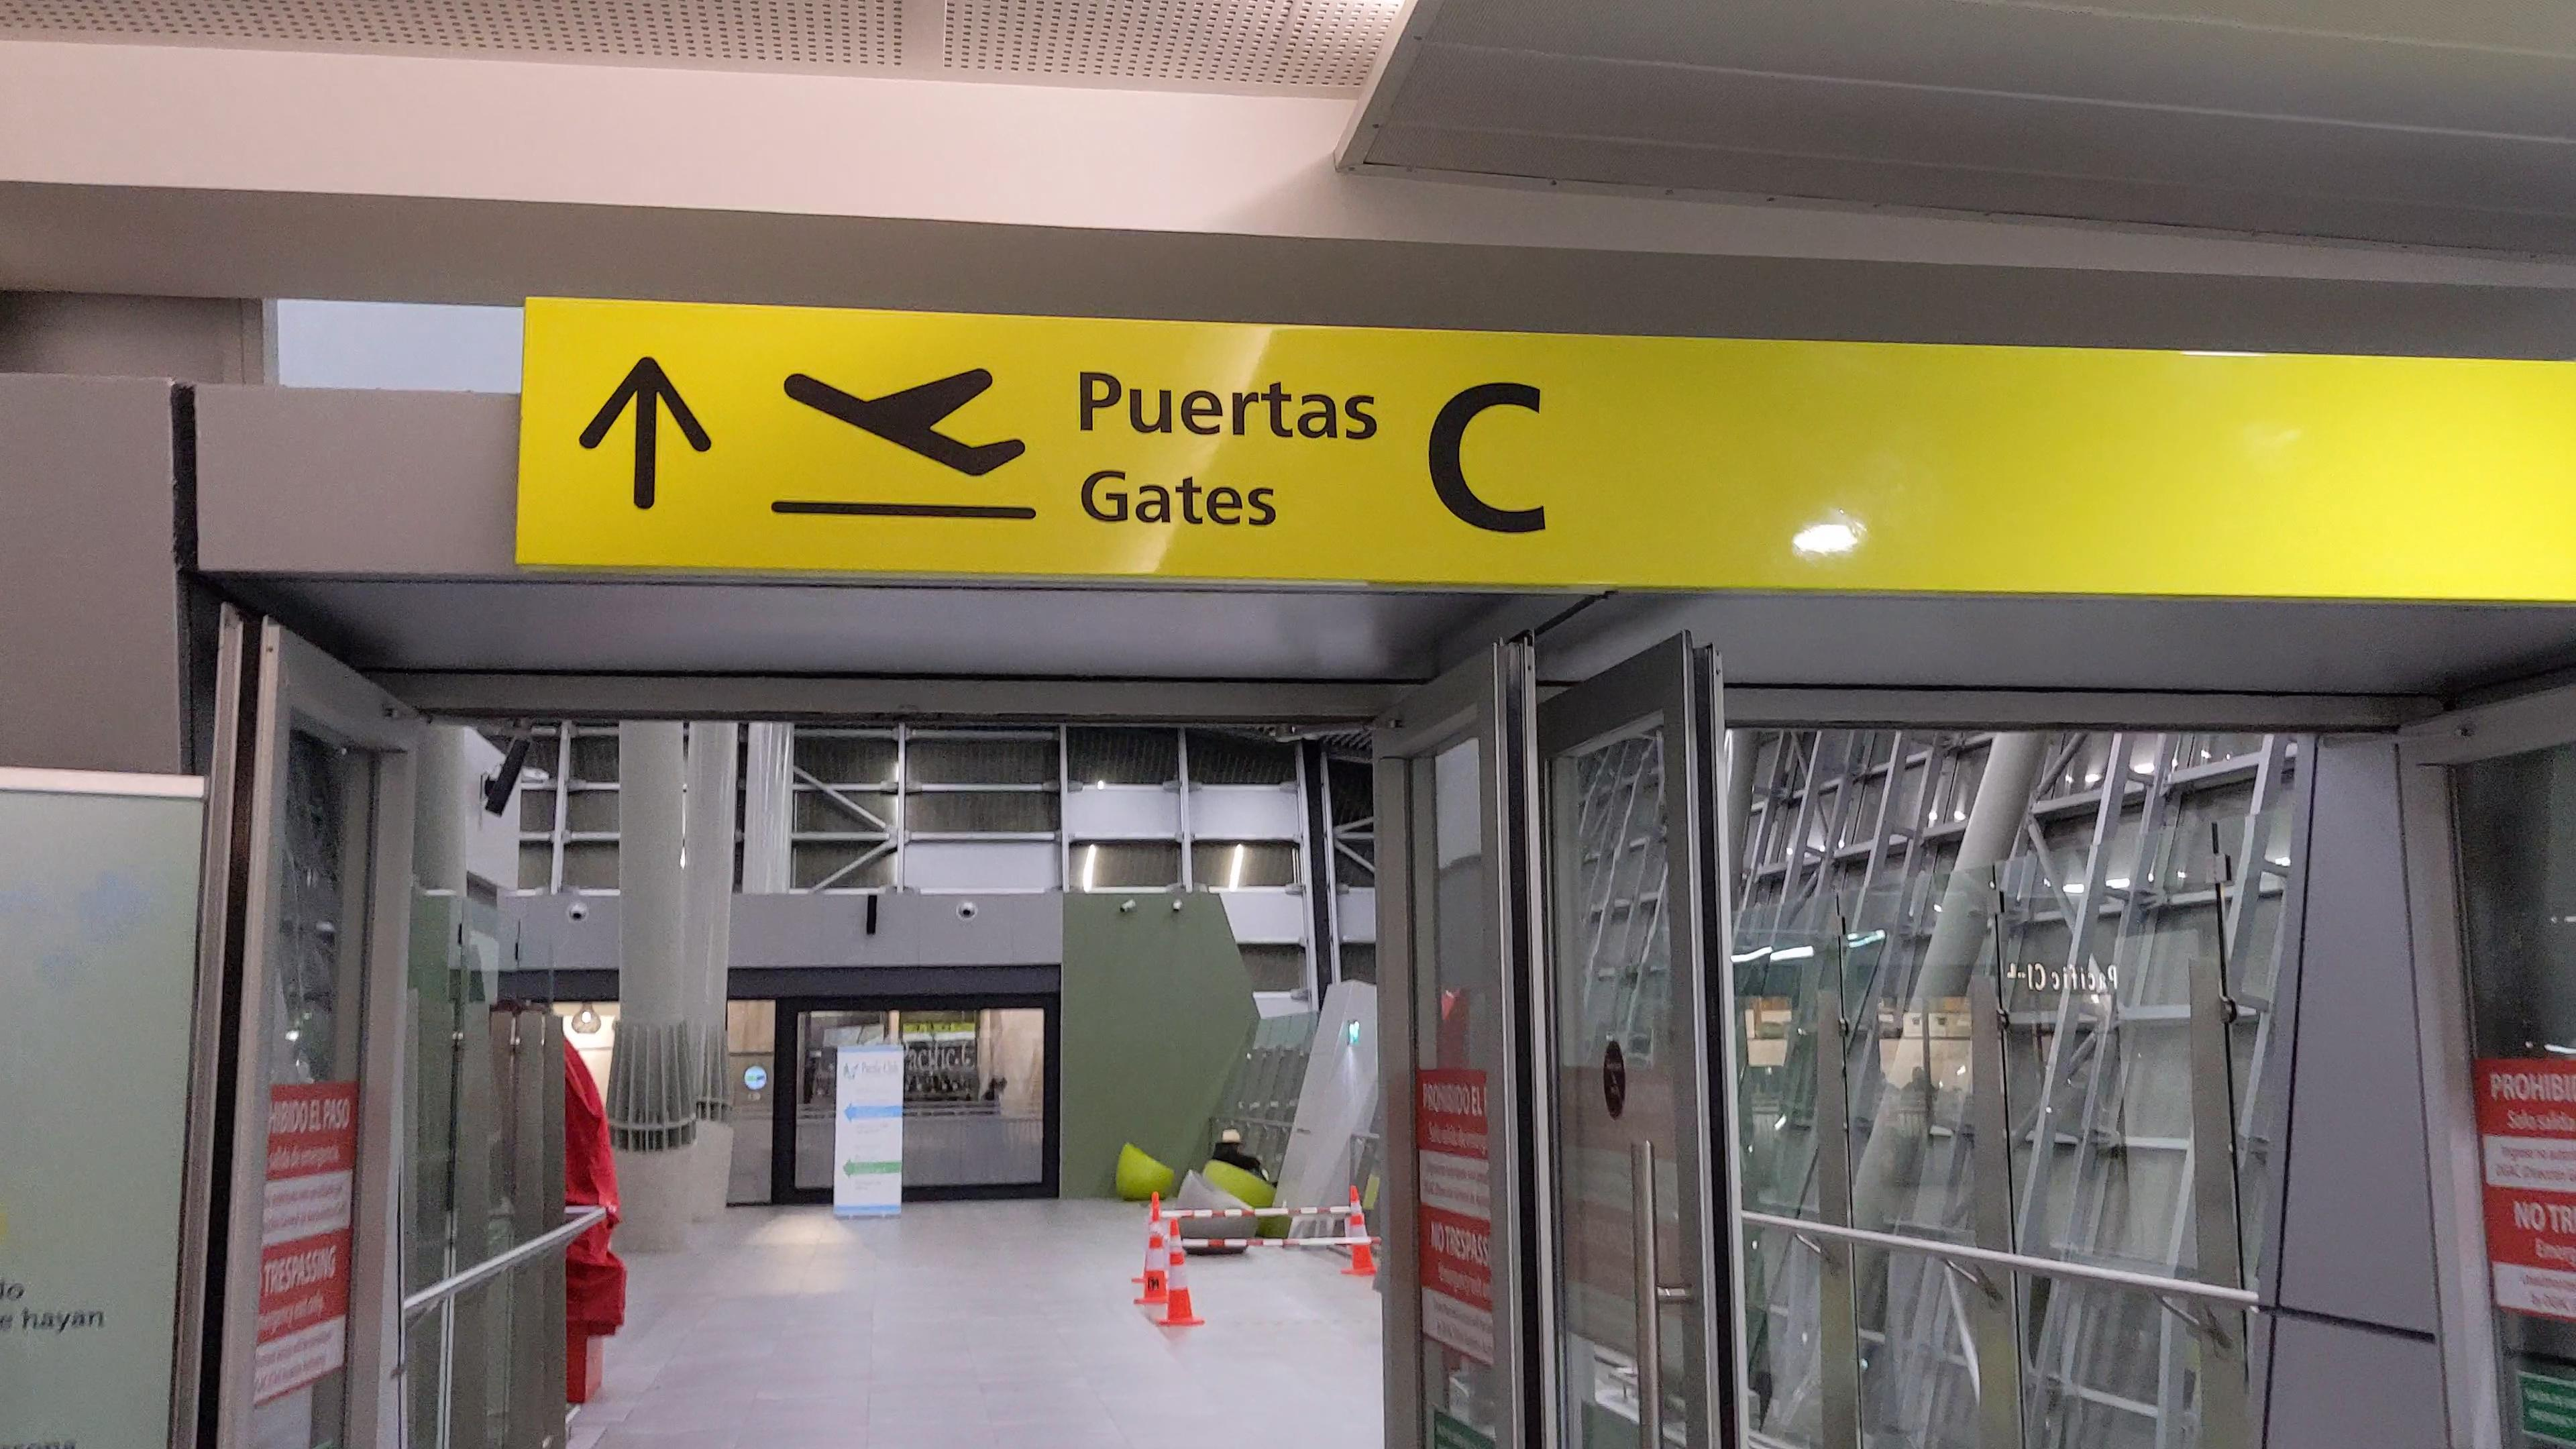airplane symbol: (766, 349, 1040, 490)
no trespassing: (253, 1090, 350, 1408), (1415, 1062, 1506, 1371)
thin up arrow: (571, 349, 720, 511)
